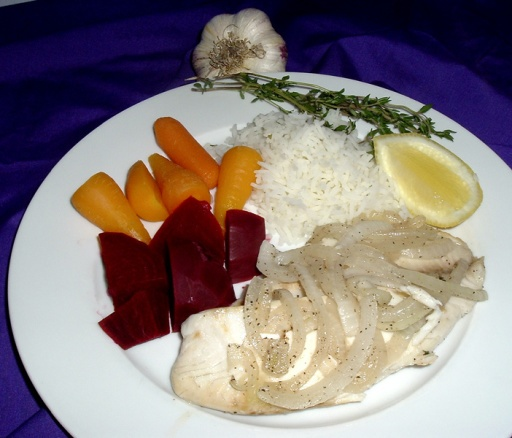background: (56, 75, 391, 284), (78, 5, 230, 54)
